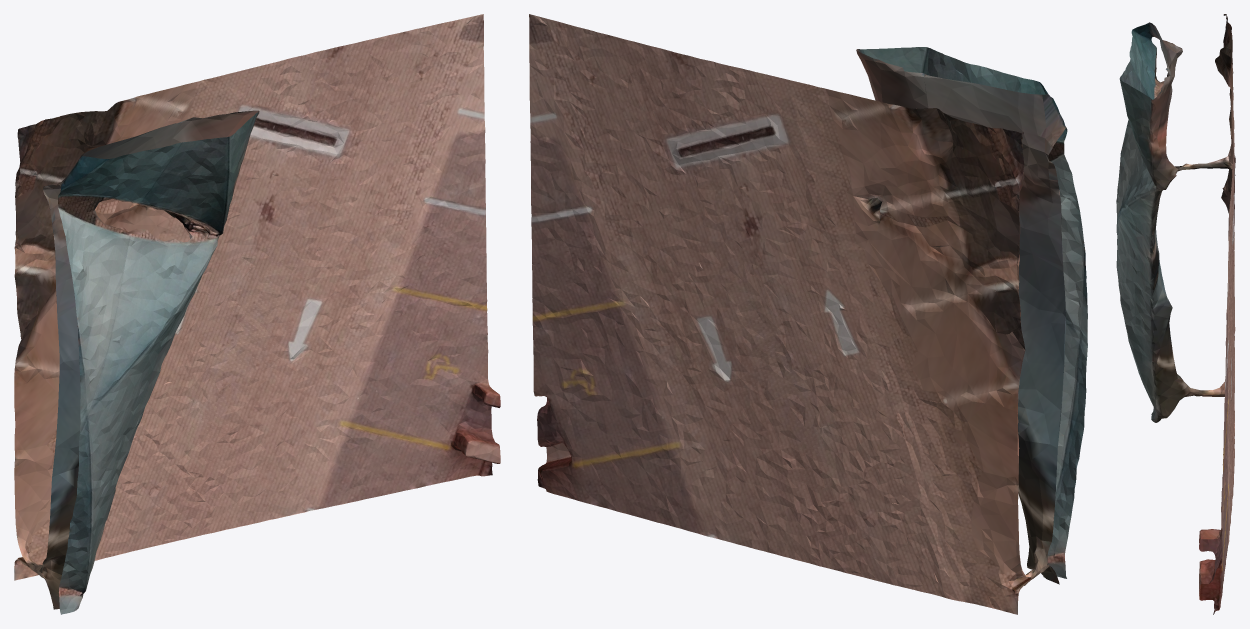
File: tile_4_8.obj
3 views of the same model, side by side, from view 1: azimuth 30°, elevation 25°; view 2: azimuth 150°, elevation 25°; view 3: azimuth 270°, elevation 25° (orthographic). The views are drawn at different scales.
Parts seen in each view (by area): view 1: texture_0; view 2: texture_0; view 3: texture_0.
Boxes of the visible parts, x1,y1,x2,y2 form: texture_0: [14, 14, 500, 614]; texture_0: [529, 14, 1087, 614]; texture_0: [1116, 14, 1235, 614].
Size of the model in its own units: 13.88 by 12.92 by 3.5.
Materials: 1 (1 with a texture image).
